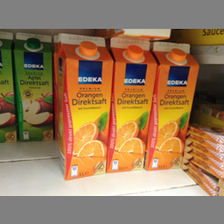juice: (57, 33, 113, 180), (108, 35, 158, 174), (148, 41, 200, 171), (14, 30, 54, 142)
